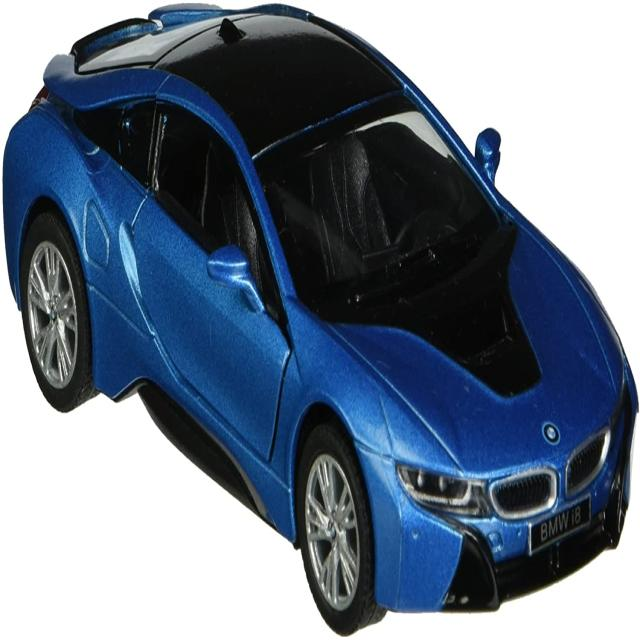Car: (2, 2, 638, 636)
